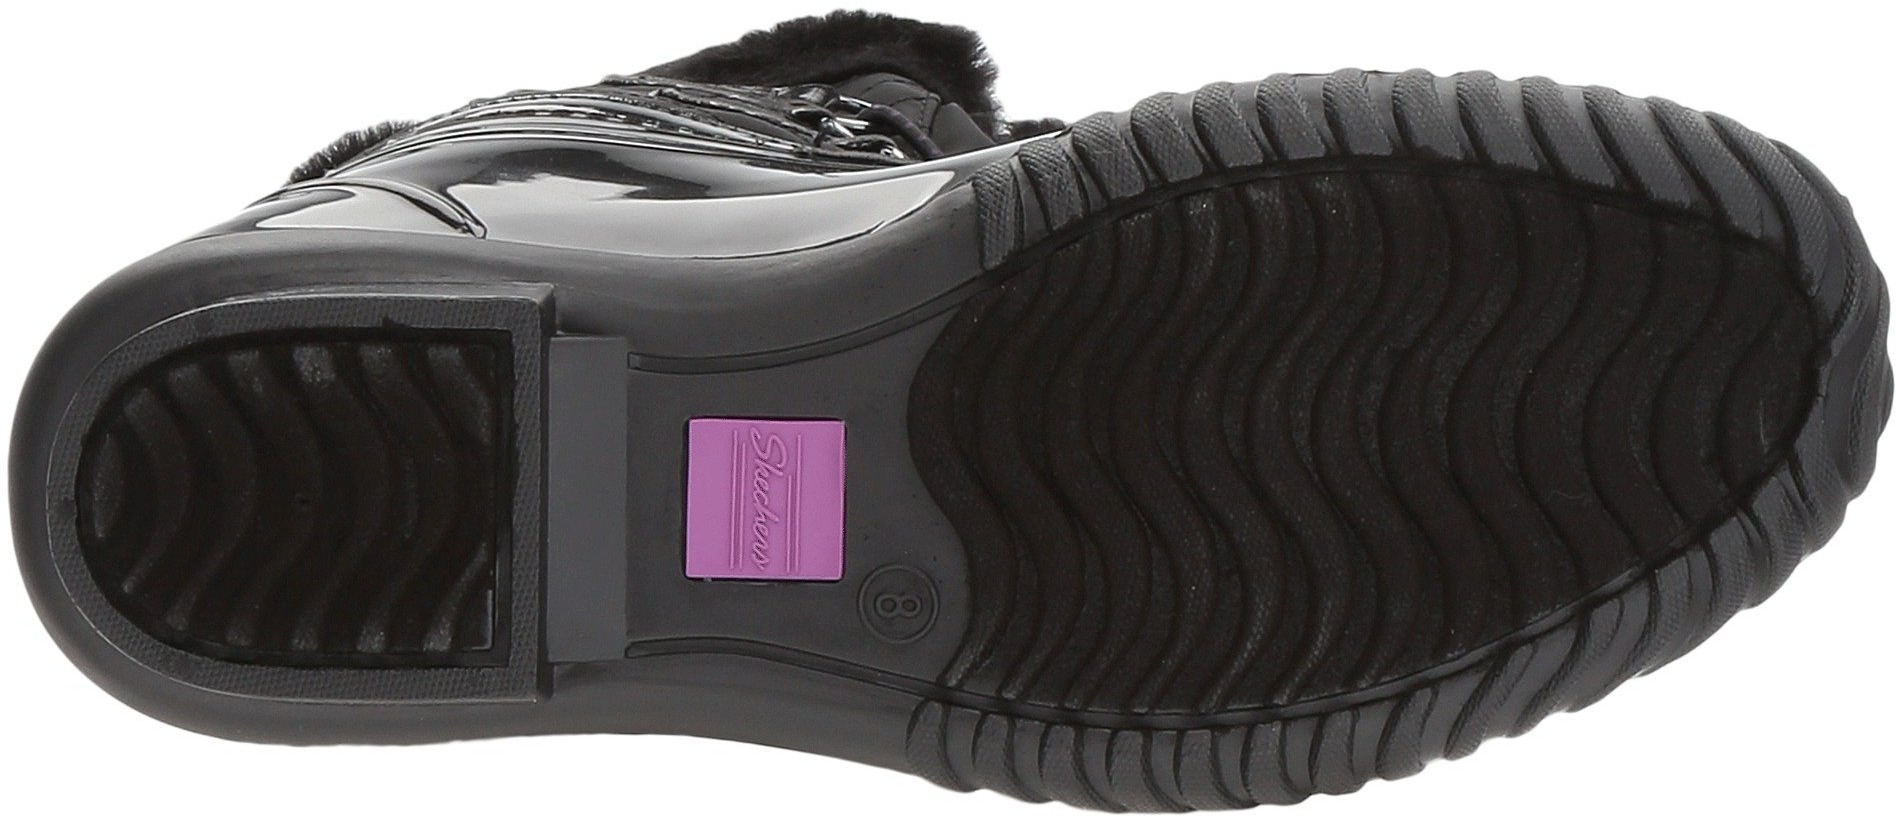chevron: (1449, 209, 1774, 543), (1080, 306, 1412, 601), (169, 361, 492, 655)
circle: (854, 561, 951, 647)
exclude: (540, 259, 651, 814)
line: (664, 399, 863, 595)
quad: (664, 399, 863, 595)
text: (664, 399, 863, 595), (715, 424, 817, 524), (854, 561, 951, 647), (873, 583, 924, 635)
